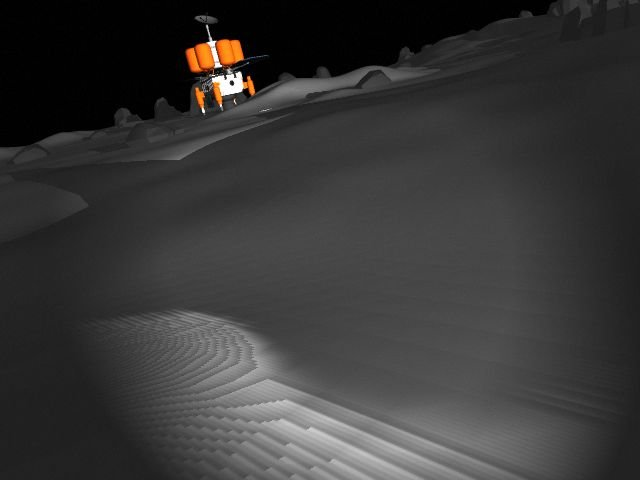homebase: (152, 13, 272, 117)
